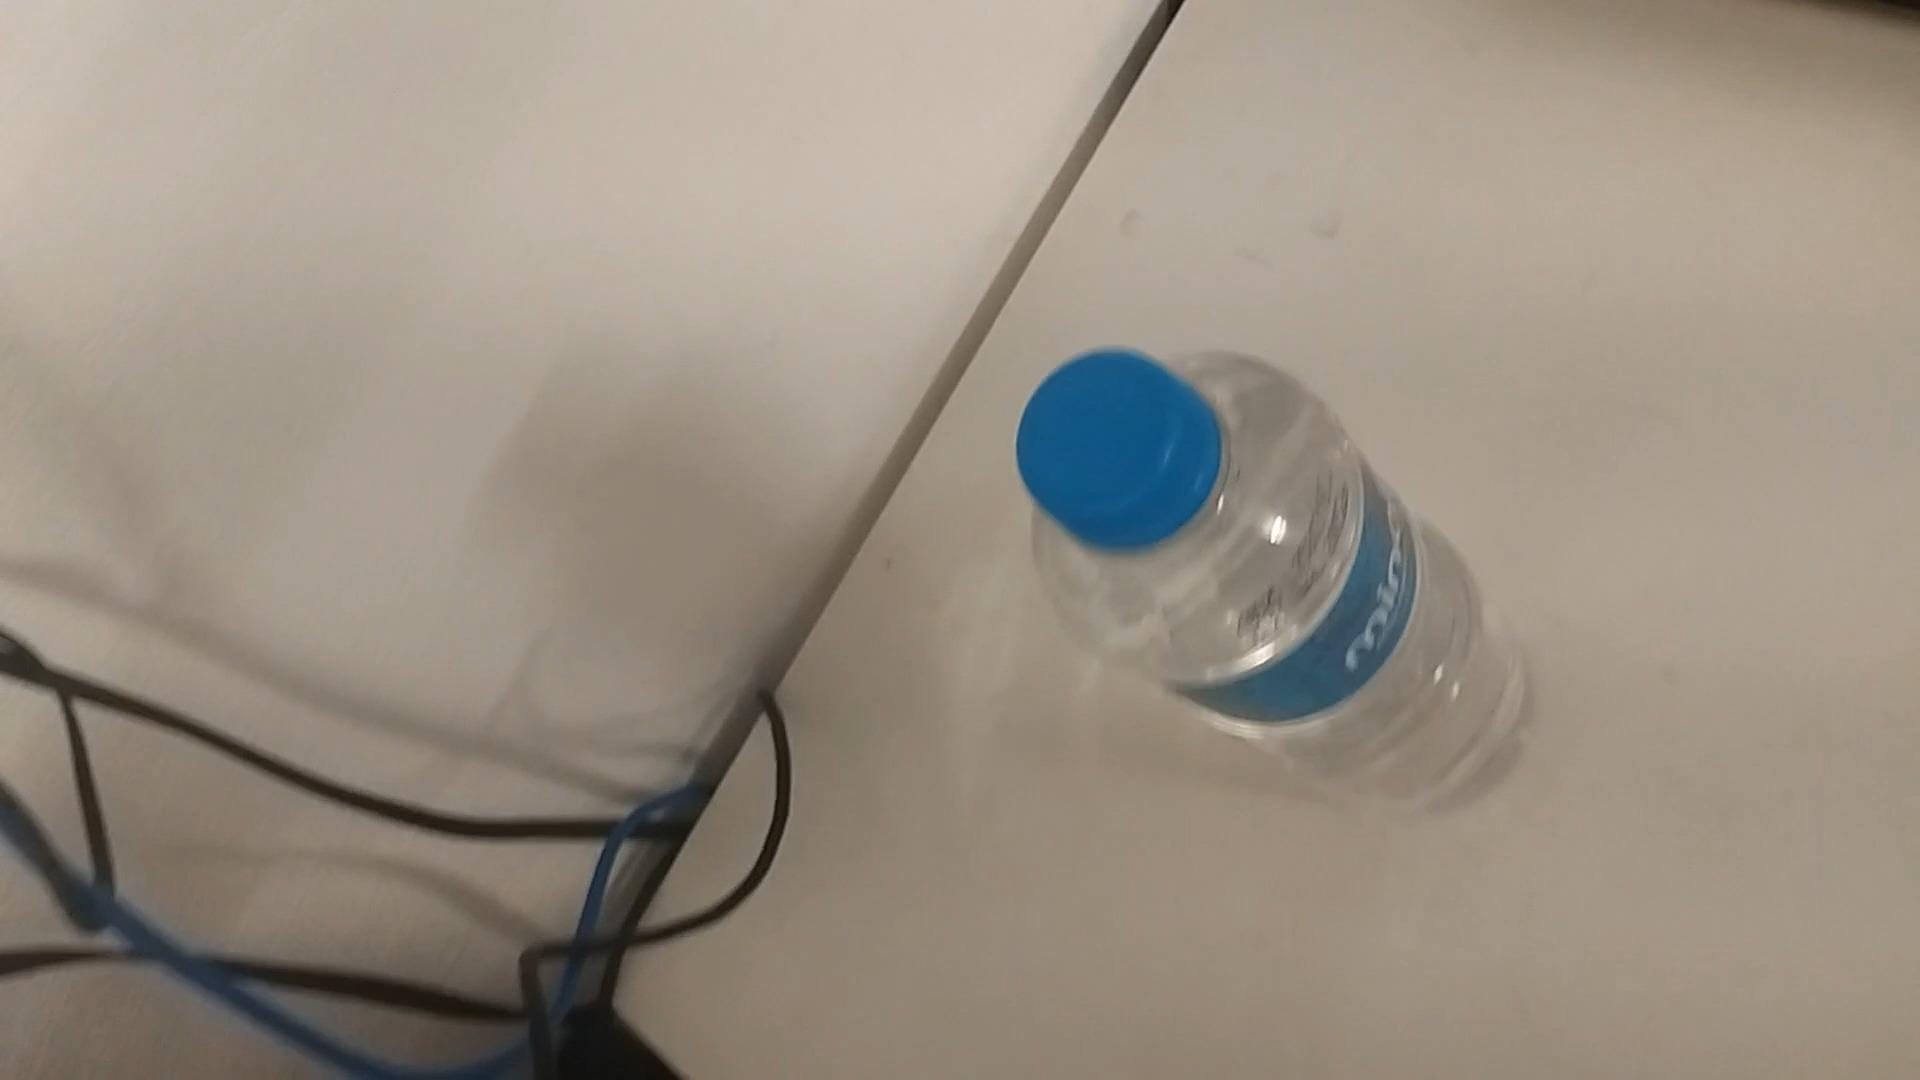agua: (1018, 340, 1506, 804)
